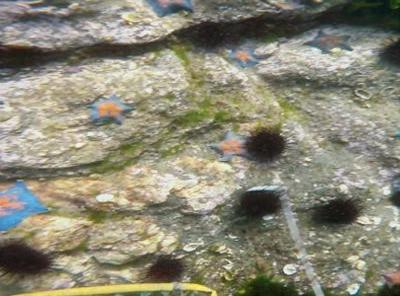urchin: (0, 239, 53, 277), (316, 193, 364, 228), (244, 127, 288, 162), (239, 185, 284, 216), (147, 250, 189, 282)
